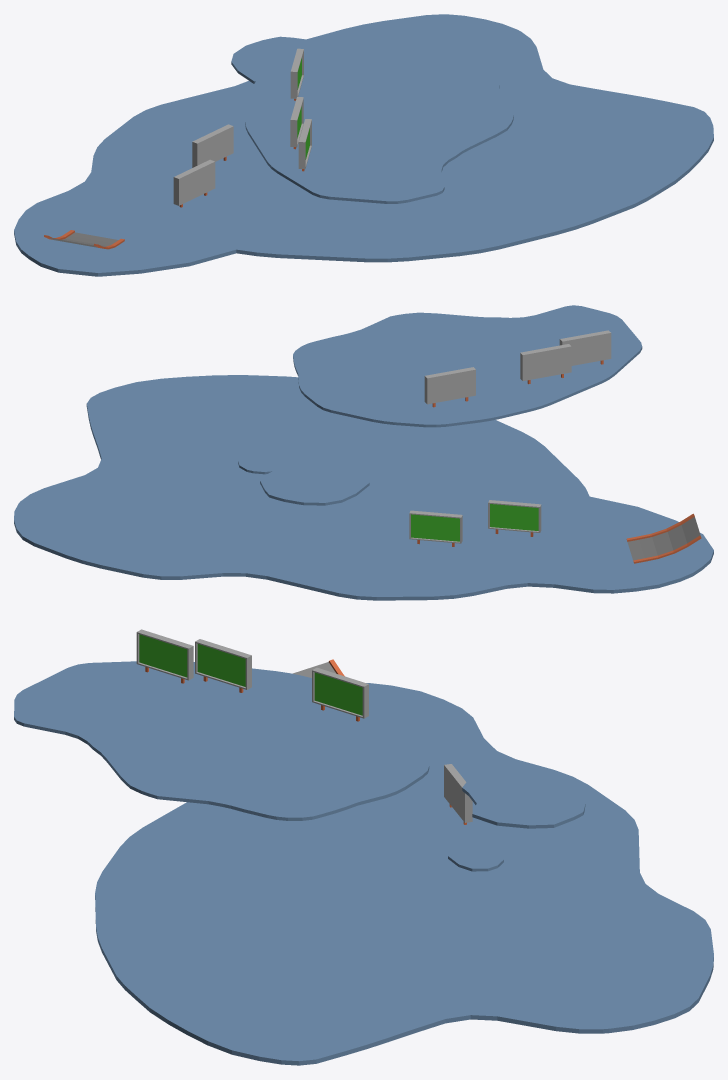
File: Floors.glb
3 views of the same model, one above another, from view 1: azimuth 30°, elevation 25°; view 2: azimuth 150°, elevation 25°; view 3: azimuth 270°, elevation 25° (orthographic). The views are drawn at different scales.
Visible parts, largest first — view 1: b.002, b, b.003, Plane.035, Plane.030, Plane.020, Plane.021, Plane.027, Plane.018; view 2: b.002, b, b.003, Plane.027, Plane.021, Plane.020, Plane.018, image.003, image.004, b.001, Plane.035, Plane.030; view 3: b.002, b, b.003, image, image.001, image.002, b.001, Plane.030, Plane.018, Plane.021, Plane.027.
Boxes of the visible parts, x1,y1,x2,y2 form: b.002: (14,14,713,276); b: (245,42,513,203); b.003: (231,36,326,83); Plane.035: (173,159,215,205); Plane.030: (192,124,233,167); Plane.020: (49,232,118,247); Plane.021: (290,97,303,147); Plane.027: (290,48,303,98); Plane.018: (298,119,311,169); b.002: (14,375,713,600); b: (293,305,642,427); b.003: (260,461,369,505); Plane.027: (424,367,475,404); Plane.021: (520,344,571,380); Plane.020: (627,516,700,560); Plane.018: (559,330,611,365); image.003: (411,514,459,541); image.004: (490,504,538,530); b.001: (238,454,283,474); Plane.035: (488,500,541,532); Plane.030: (409,510,462,543); b.002: (95,683,713,1065); b: (14,661,429,820); b.003: (462,773,585,828); image: (314,672,362,715); image.001: (139,634,187,677); image.002: (197,644,245,686); b.001: (448,841,503,871); Plane.030: (444,764,472,822); Plane.018: (136,629,193,680); Plane.021: (195,639,251,689); Plane.027: (312,667,368,718).
Size of the model in its own units: 17.31 by 3.48 by 13.53.
